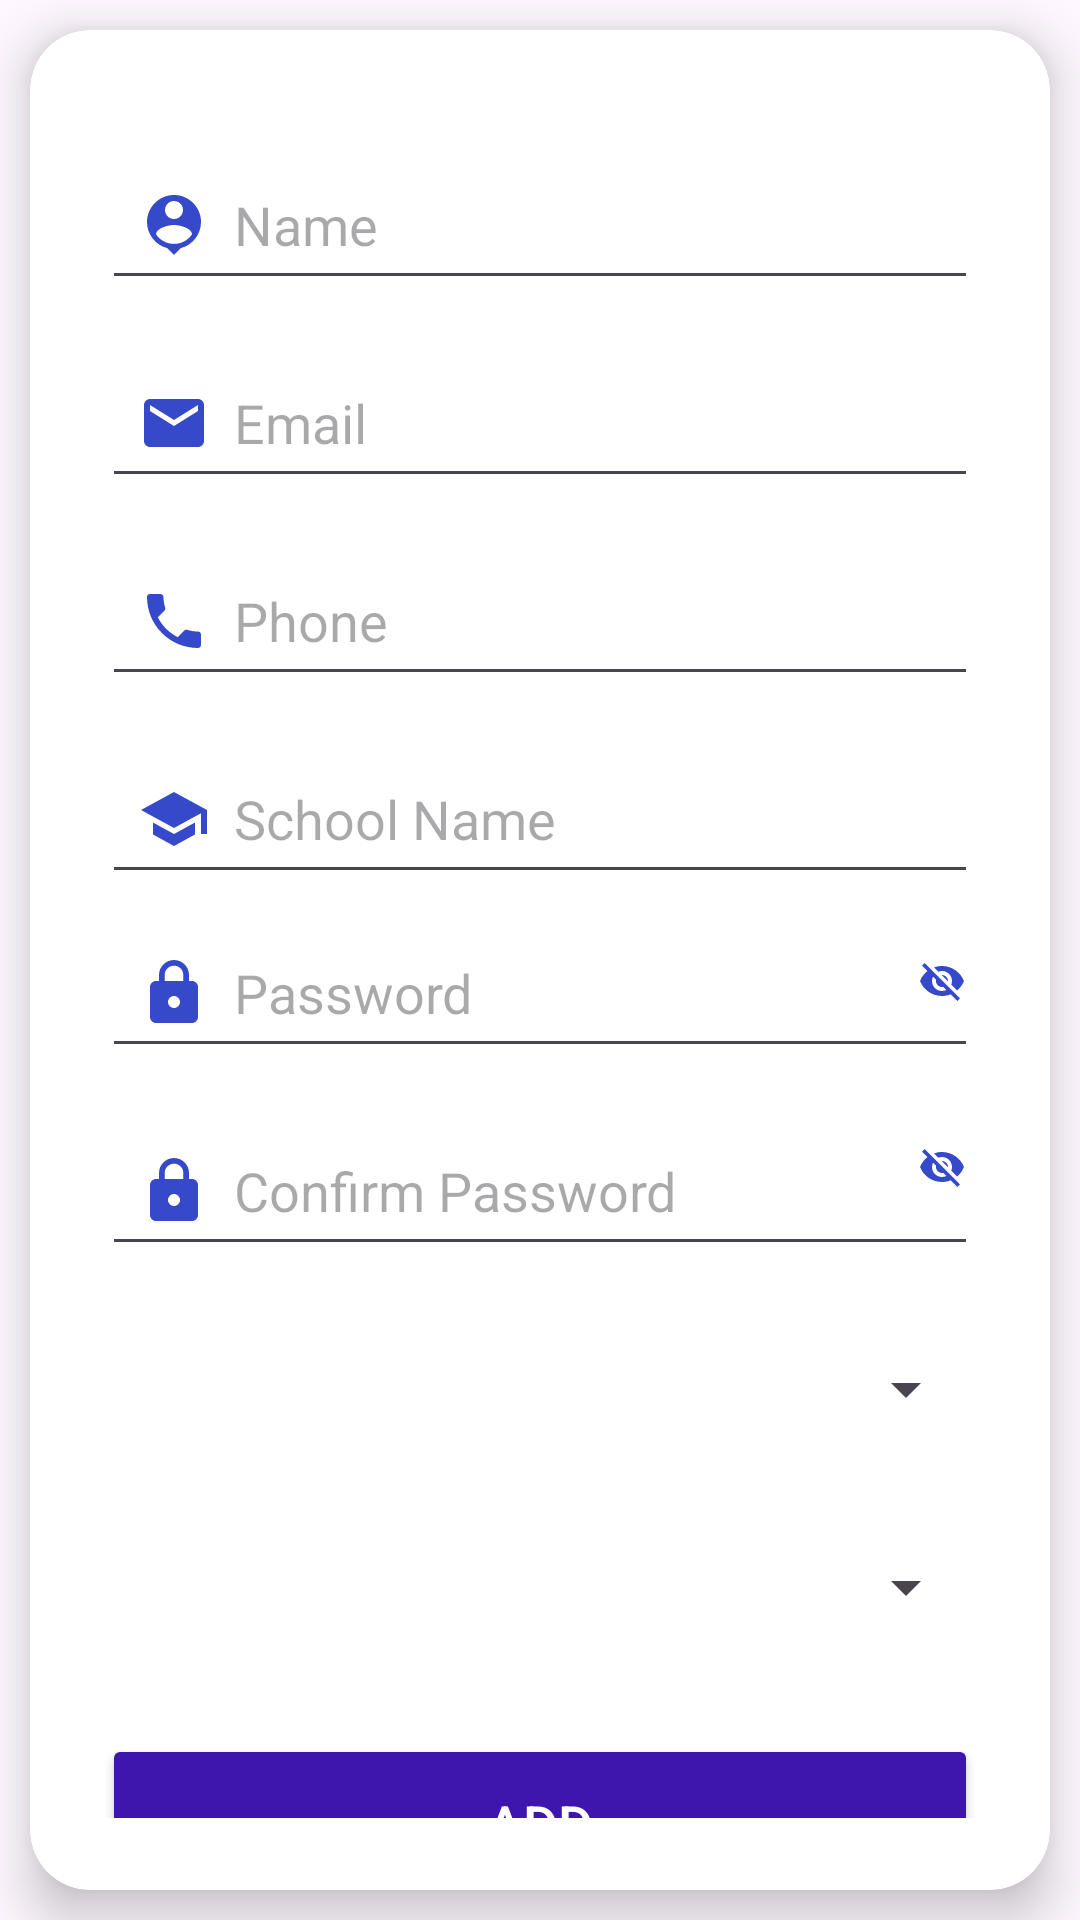

Screen size 1080x1920. Icon name, then its center in pixels as (x=x, y=y):
visibility off: (x=942, y=982), (x=942, y=1168)
